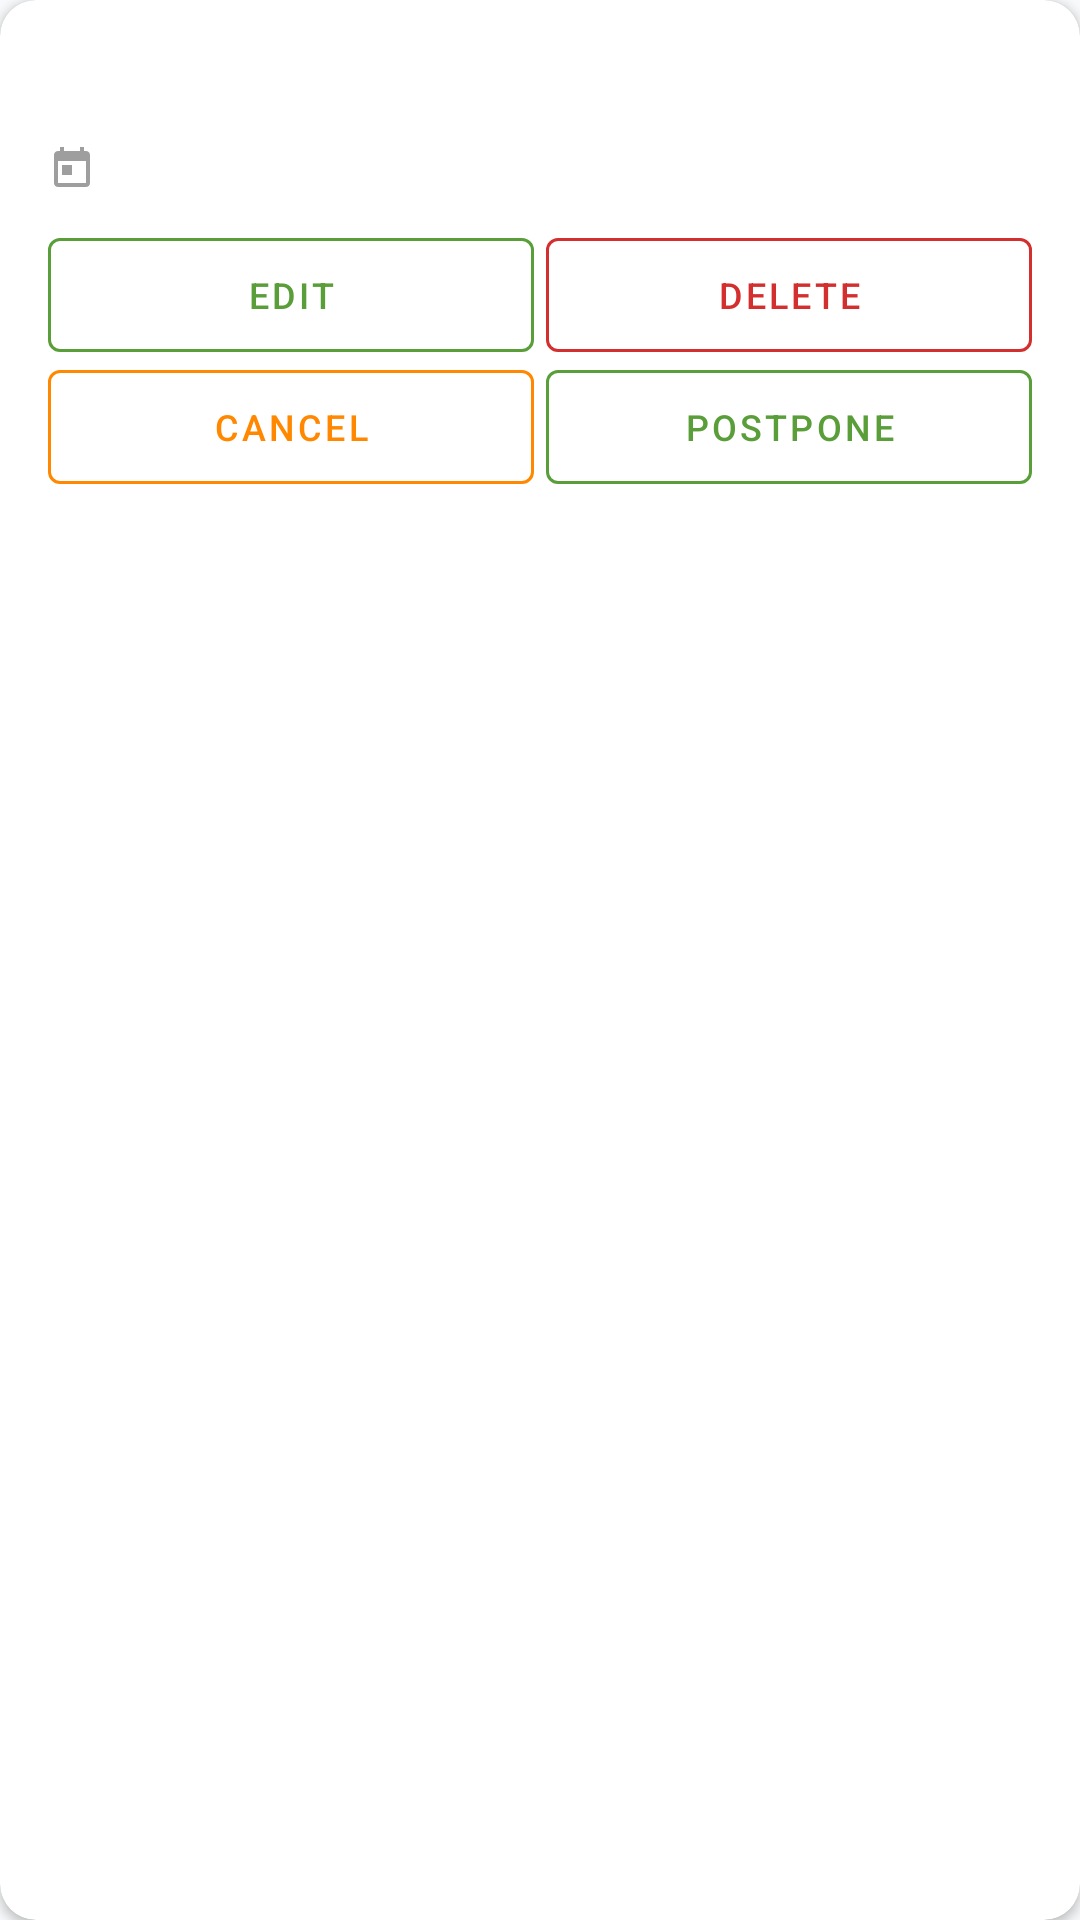

Named icons in this screenshot (1080x1920) and their bounding boxes, (x1, y1, x2, y2):
calendar: (54, 147, 90, 187)
